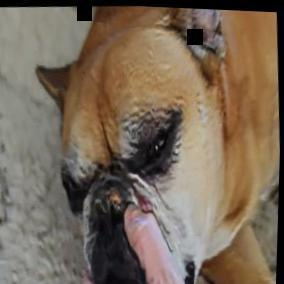keratosis: (88, 176, 137, 223)
